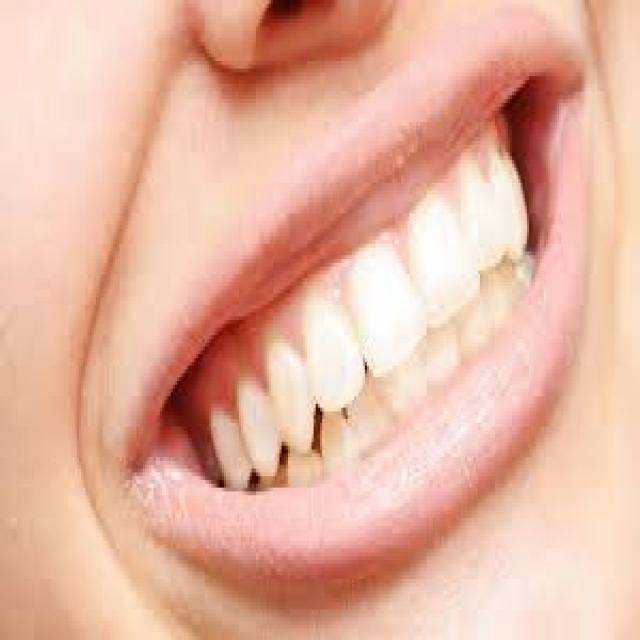tooth: (403, 213, 476, 320), (307, 301, 361, 419), (352, 256, 410, 354), (465, 152, 506, 263), (269, 354, 316, 450), (499, 164, 536, 259), (239, 389, 277, 461), (209, 415, 243, 480)
